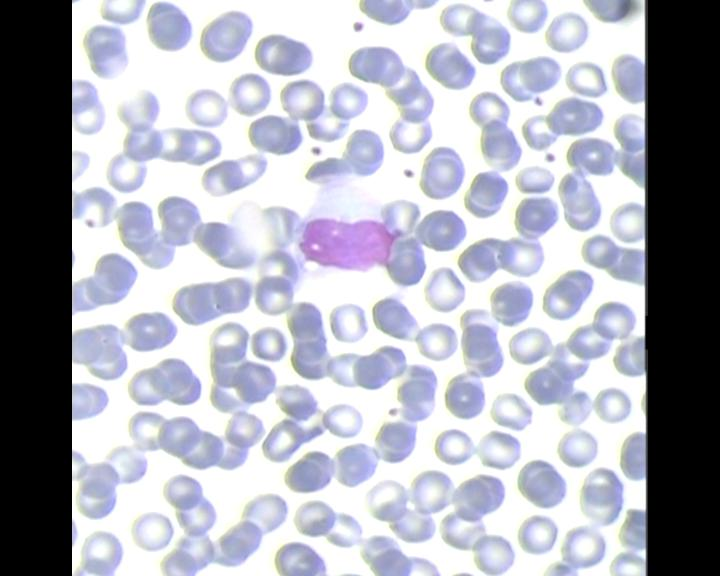mono: (290, 172, 403, 271)
